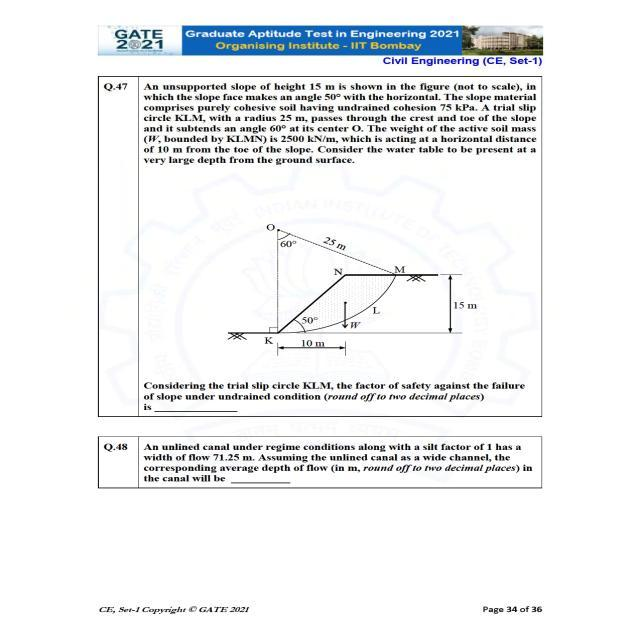Question_Answer_Block: (96, 75, 542, 416), (97, 436, 543, 487)
Question_Block: (97, 76, 540, 413), (96, 437, 542, 487)
Question_Paper_Area: (97, 76, 543, 487)
